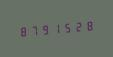eight: (17, 23, 27, 39), (83, 17, 93, 33)
five: (61, 19, 71, 35)
nine: (39, 21, 49, 37)
one: (50, 20, 60, 36)
seven: (28, 22, 38, 38)
two: (72, 18, 82, 34)
